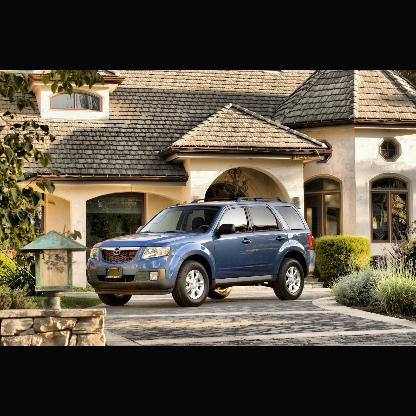Mazda Tribute SUV 2011: (87, 196, 316, 308)
